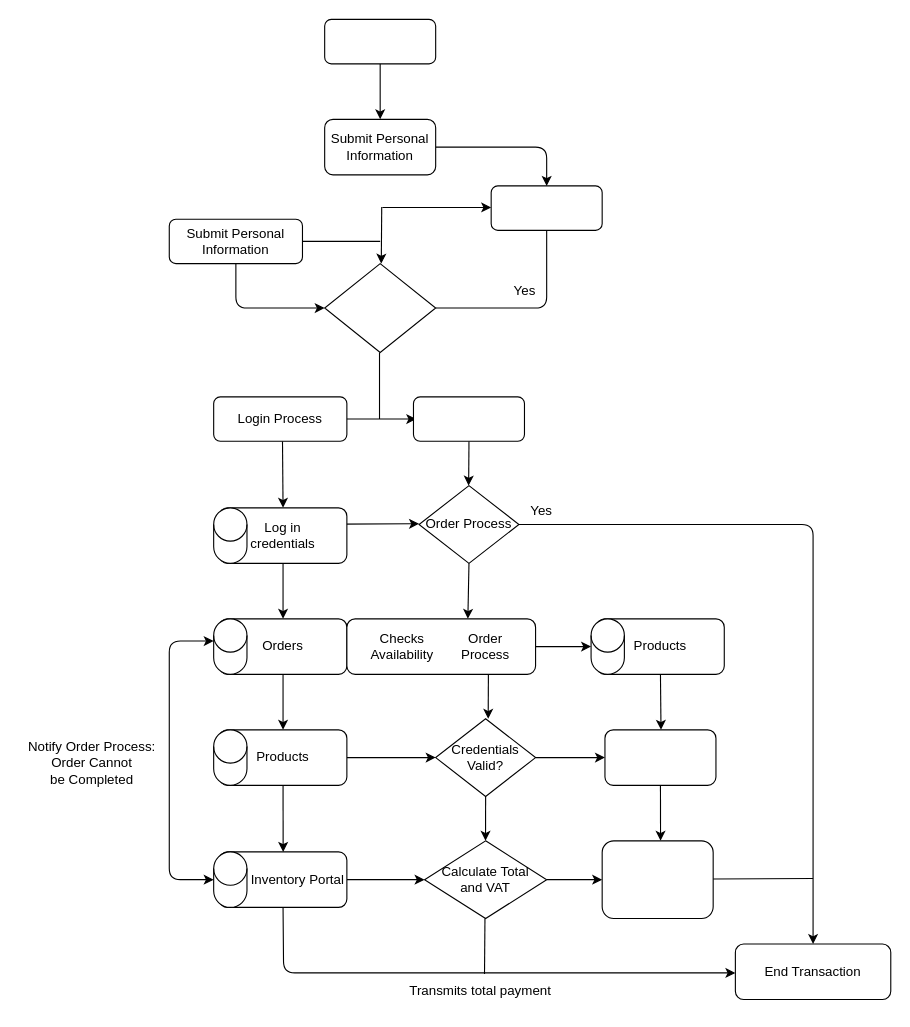
The diagram is 910 pixels wide and 1027 high, and some of its shapes have lost their labels. The centre of each missing label's shape, as x and y in pixels:
"Process Order Payment & Generate Receipt" belongs at (657,879).
"Returning Customer?" belongs at (380,307).
"Sales Portal" belongs at (660,757).
"Start" belongs at (380,41).
"Submit Login Information" belongs at (546,207).
"Submit Order Details" belongs at (468,418).
